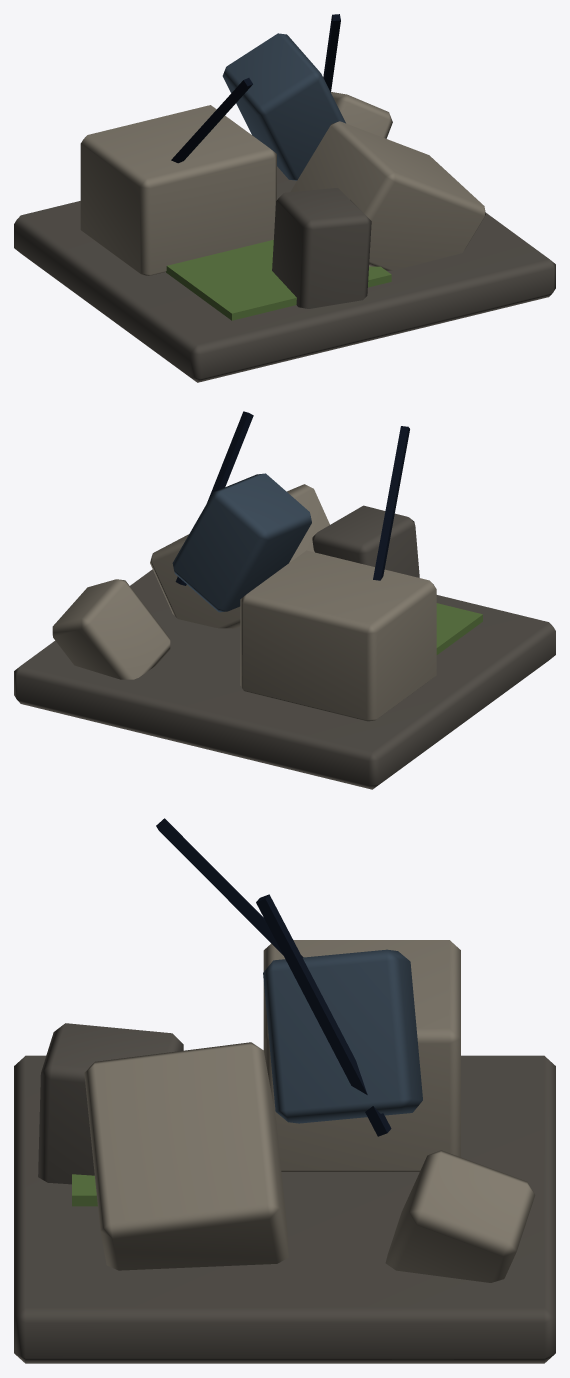
Rendered from rubble.glb.
The picture shows the model from 3 angles, top to bottom: view 1: azimuth 30°, elevation 25°; view 2: azimuth 150°, elevation 25°; view 3: azimuth 270°, elevation 25°; orthographic projection. The views are drawn at different scales.
Visible parts, largest first — view 1: Debris bed, Concrete block, Concrete block.001, Concrete block.003, Concrete block.002, Moss patch, Concrete block.004, Rebar.001, Rebar; view 2: Debris bed, Concrete block, Concrete block.002, Concrete block.004, Concrete block.003, Concrete block.001, Rebar.001, Moss patch, Rebar; view 3: Debris bed, Concrete block.001, Concrete block.002, Concrete block, Concrete block.004, Concrete block.003, Rebar, Rebar.001, Moss patch.
Part boxes in pixels (x1,y1,x2,y2): Debris bed: (14,166,555,382); Concrete block: (80,105,276,275); Concrete block.001: (290,121,485,270); Concrete block.003: (272,188,371,308); Concrete block.002: (222,33,345,180); Moss patch: (166,239,391,320); Concrete block.004: (331,92,392,138); Rebar.001: (171,78,252,163); Rebar: (323,14,340,92); Debris bed: (14,569,555,789); Concrete block: (240,550,436,721); Concrete block.002: (172,473,311,612); Concrete block.004: (52,579,170,679); Concrete block.003: (312,505,419,577); Concrete block.001: (150,484,329,628); Rebar.001: (373,426,409,580); Moss patch: (436,603,482,654); Rebar: (175,411,253,585); Debris bed: (14,1055,555,1363); Concrete block.001: (84,1042,288,1270); Concrete block.002: (263,949,422,1123); Concrete block: (263,940,460,1171); Concrete block.004: (385,1150,535,1282); Concrete block.003: (38,1023,183,1184); Rebar: (256,894,391,1136); Rebar.001: (156,818,303,957); Moss patch: (72,1174,97,1206).
Bounding box in the file's own units: 1.6 × 1.06 × 1.4.
